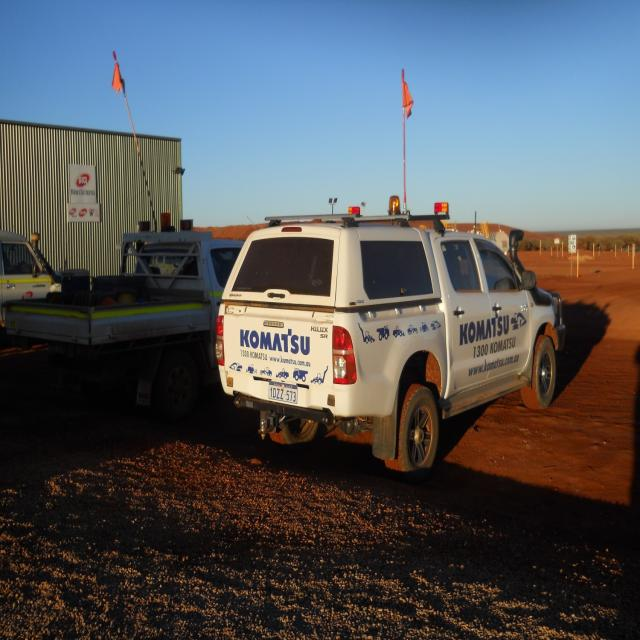light_vehicle: (213, 205, 572, 490)
